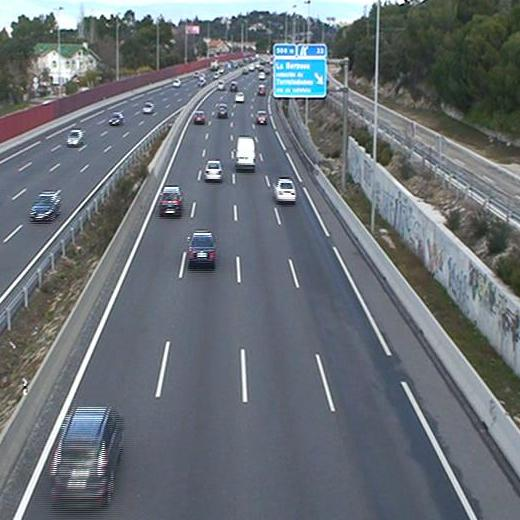car: (51, 407, 121, 503), (187, 232, 217, 264), (159, 185, 184, 213), (273, 179, 298, 203), (203, 160, 223, 181), (256, 109, 268, 124), (193, 111, 204, 124), (234, 92, 246, 103), (218, 105, 229, 116), (256, 84, 266, 95)
van: (234, 137, 258, 167)
